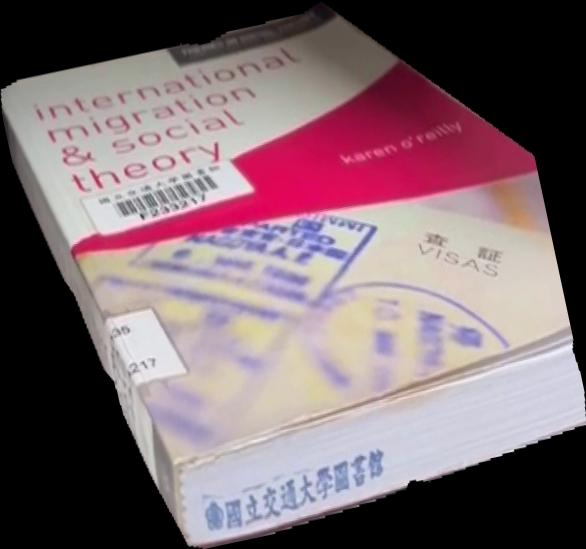flat: (1, 1, 586, 549)
